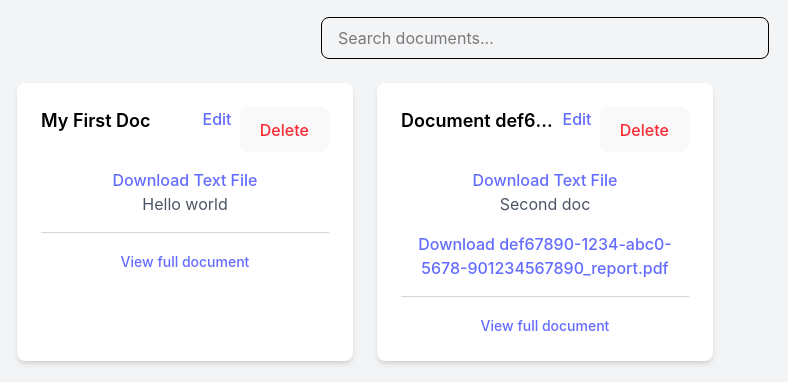
Test: DocumentViewer › searches documents by title
Expected: the heading "My First Doc" is shown, [41, 107, 150, 135]
Type "My First" into the field with placeholder "Search documents..." at (545, 38), box [321, 17, 769, 59]
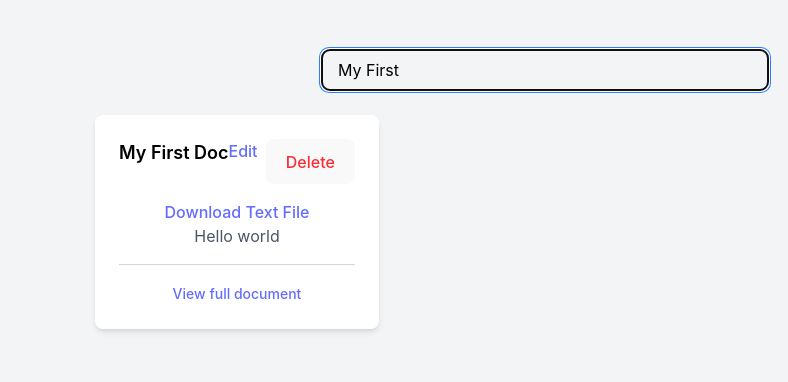
Expected: the heading "My First Doc" is shown, [119, 139, 228, 167]
Result: the heading "Document def67890" is gone
